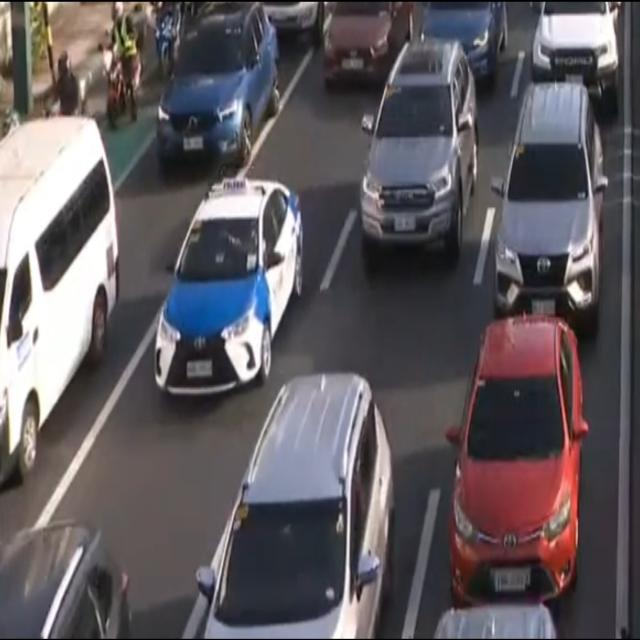SUV: (194, 378, 393, 640), (494, 80, 606, 320), (362, 38, 479, 266), (155, 1, 285, 174)
Sedan: (446, 317, 588, 613), (150, 176, 304, 403)
Van: (0, 112, 123, 497)
